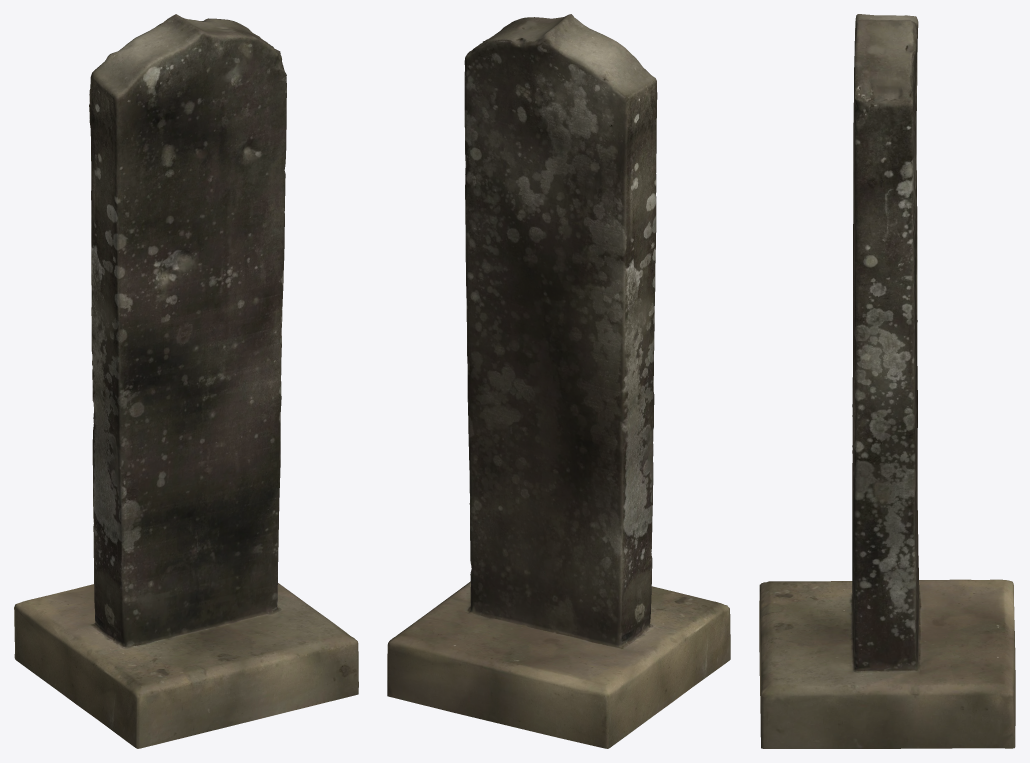
Rendered from MysonMuseum_biadatheki1203msd316_final.glb.
3 views of the same model, side by side, from view 1: azimuth 30°, elevation 25°; view 2: azimuth 150°, elevation 25°; view 3: azimuth 270°, elevation 25° (orthographic). The views are drawn at different scales.
Bounding box in the file's own units: 0.7923 × 2.23 × 0.7669.
1 material, 1 textured.
